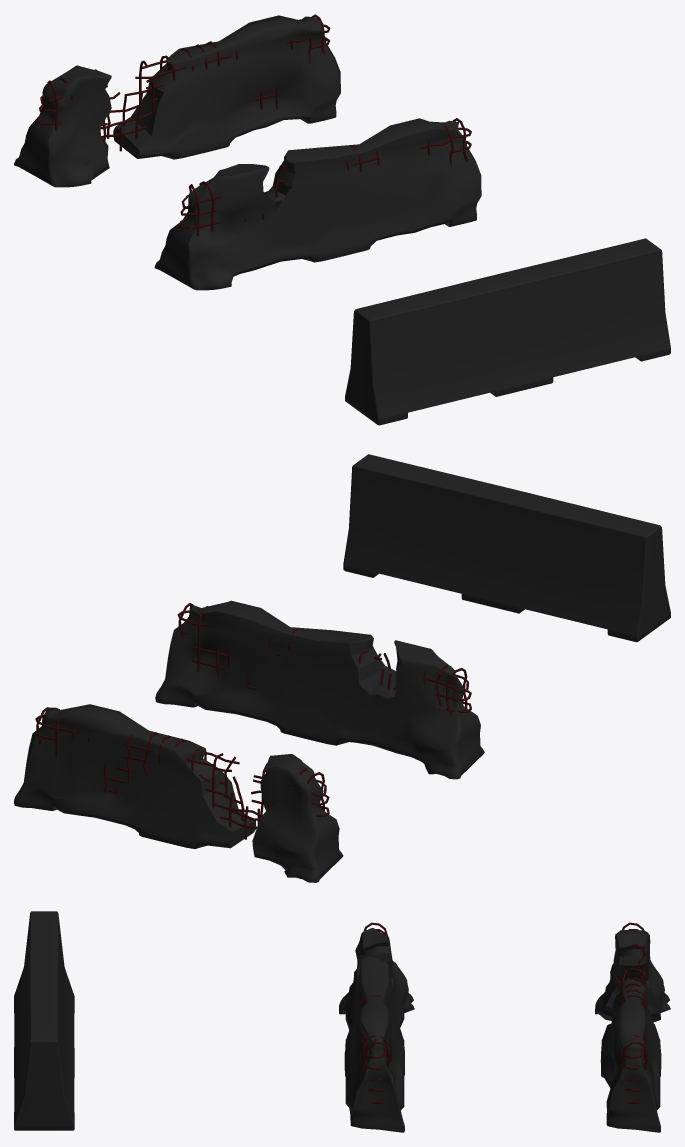
File: Cement Barricade.obj
3 views of the same model, one above another, from view 1: azimuth 30°, elevation 25°; view 2: azimuth 150°, elevation 25°; view 3: azimuth 270°, elevation 25° (orthographic). The views are drawn at different scales.
Parts seen in each view (by area): view 1: pCube1_pCube1, pCube2_pCube2, pCube3_pCube3, pTorus44_pTorus44; view 2: pCube1_pCube1, pCube2_pCube2, pCube3_pCube3, pTorus44_pTorus44; view 3: pCube1_pCube1, pCube2_pCube2, pCube3_pCube3, pTorus1_pTorus1.
Part boxes in pixels (left/top/right/bottom): pCube1_pCube1: left=345, top=238, right=670, bottom=425; pCube2_pCube2: left=154, top=118, right=481, bottom=290; pCube3_pCube3: left=14, top=15, right=340, bottom=187; pTorus44_pTorus44: left=40, top=24, right=471, bottom=208; pCube1_pCube1: left=343, top=454, right=670, bottom=642; pCube2_pCube2: left=155, top=600, right=484, bottom=779; pCube3_pCube3: left=14, top=704, right=343, bottom=882; pTorus44_pTorus44: left=35, top=610, right=468, bottom=797; pCube1_pCube1: left=14, top=911, right=74, bottom=1130; pCube2_pCube2: left=339, top=928, right=414, bottom=1132; pCube3_pCube3: left=595, top=930, right=670, bottom=1132; pTorus1_pTorus1: left=362, top=1042, right=647, bottom=1074.
Bounding box in the file's own units: 8.42 × 2.61 × 17.2.
